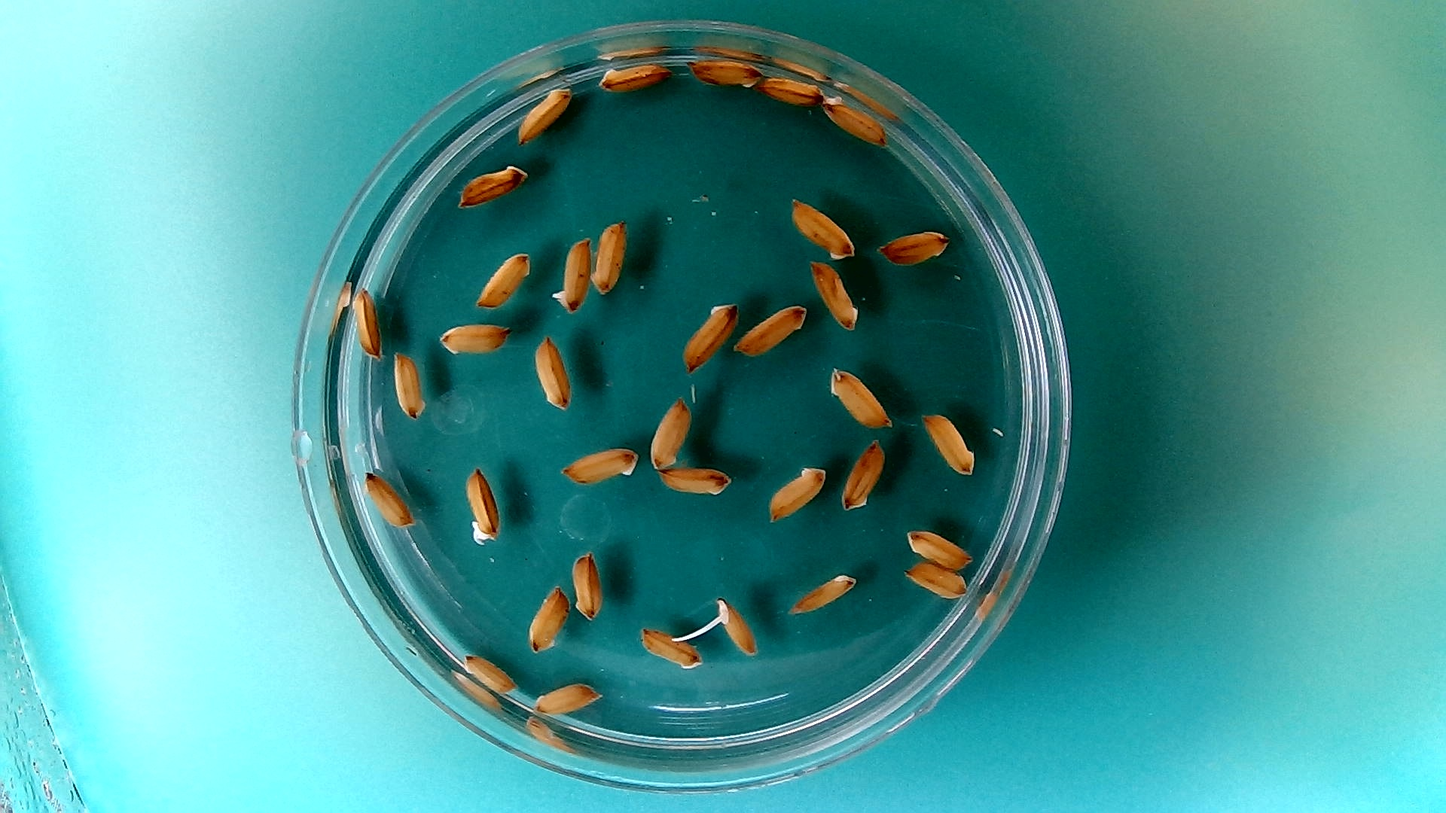no: (786, 193, 859, 263), (679, 296, 740, 374), (825, 363, 895, 429), (733, 301, 808, 358), (380, 346, 432, 425), (807, 257, 861, 333), (763, 461, 828, 524), (920, 409, 978, 477), (818, 92, 889, 147), (514, 82, 575, 146), (556, 441, 642, 486), (838, 436, 887, 513), (523, 580, 572, 655), (647, 392, 694, 470), (473, 248, 533, 309), (785, 568, 859, 617), (456, 160, 530, 209), (587, 216, 630, 297), (634, 622, 704, 671), (362, 468, 416, 530), (532, 332, 573, 412), (685, 53, 766, 92), (904, 525, 973, 569), (529, 678, 606, 717), (877, 227, 952, 267), (568, 547, 606, 623), (656, 463, 735, 499), (435, 320, 513, 356), (901, 559, 969, 600), (459, 650, 519, 696), (597, 57, 673, 93), (350, 283, 383, 360), (758, 72, 825, 102)
yes: (462, 461, 505, 547), (549, 232, 593, 316), (713, 593, 760, 656)
